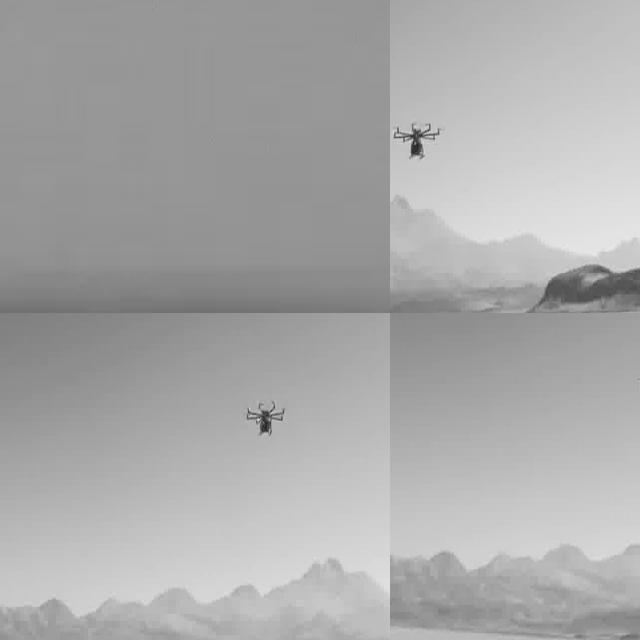drone: (390, 111, 446, 167), (246, 393, 290, 446)
